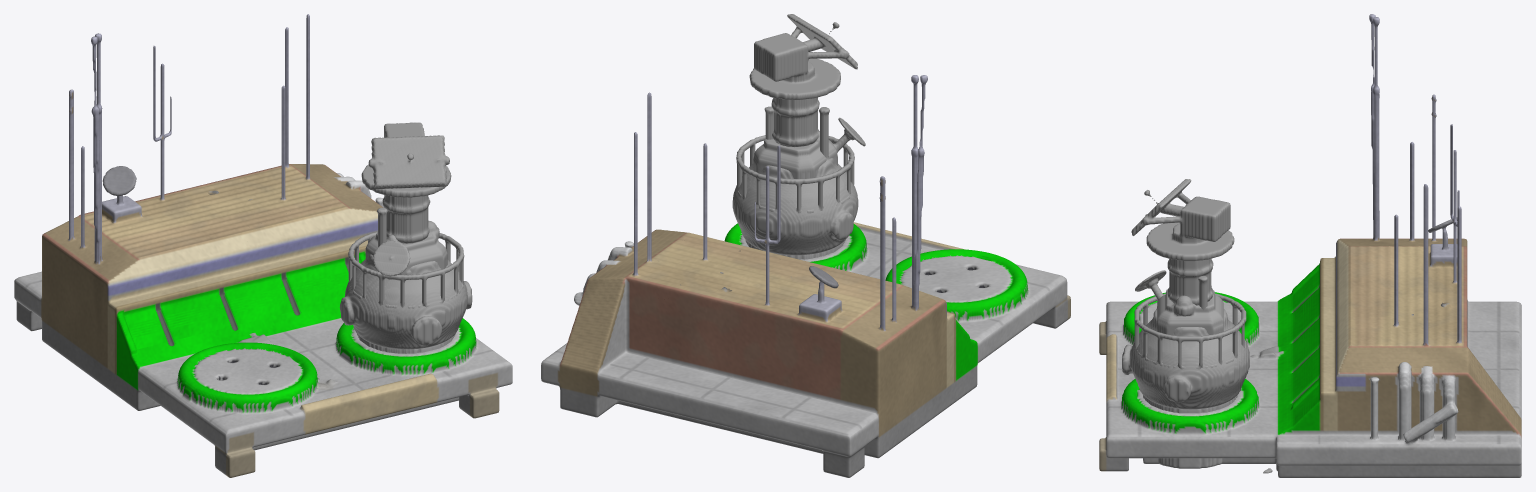
File: upgrade-center.glb
3 views of the same model, side by side, from view 1: azimuth 30°, elevation 25°; view 2: azimuth 150°, elevation 25°; view 3: azimuth 270°, elevation 25° (orthographic). The views are drawn at different scales.
Parts seen in each view (by area): view 1: upgrade-center, plug-ion-cannon-uplink, plug-seeker-control, plug-drop-pod-node, upgrade-center-damaged; view 2: upgrade-center, plug-ion-cannon-uplink, plug-seeker-control, plug-drop-pod-node, upgrade-center-damaged; view 3: upgrade-center, plug-ion-cannon-uplink, plug-seeker-control, plug-drop-pod-node, upgrade-center-damaged.
Part boxes in pixels (x1=…): upgrade-center: x1=14, y1=14, x2=512, y2=477; plug-ion-cannon-uplink: x1=348, y1=122, x2=464, y2=408; plug-seeker-control: x1=339, y1=207, x2=472, y2=349; plug-drop-pod-node: x1=365, y1=220, x2=447, y2=280; upgrade-center-damaged: x1=89, y1=36, x2=342, y2=402; upgrade-center: x1=541, y1=75, x2=1070, y2=477; plug-ion-cannon-uplink: x1=736, y1=14, x2=857, y2=259; plug-seeker-control: x1=732, y1=106, x2=858, y2=255; plug-drop-pod-node: x1=753, y1=117, x2=865, y2=178; upgrade-center-damaged: x1=574, y1=75, x2=927, y2=314; upgrade-center: x1=1099, y1=17, x2=1521, y2=477; plug-ion-cannon-uplink: x1=1131, y1=179, x2=1246, y2=468; plug-seeker-control: x1=1122, y1=275, x2=1249, y2=409; plug-drop-pod-node: x1=1135, y1=270, x2=1223, y2=335; upgrade-center-damaged: x1=1250, y1=14, x2=1458, y2=473.
Bounding box in the file's own units: 1.91 × 2.03 × 2.35.
